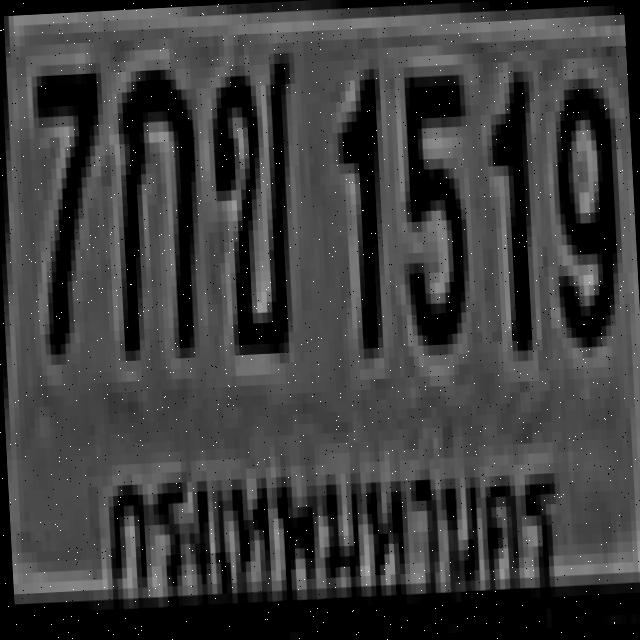1: (483, 67, 538, 347), (332, 64, 386, 344)
10GorGai: (105, 58, 200, 351)
19ChorChang: (204, 42, 304, 346)
5: (393, 65, 472, 346)
7: (31, 63, 110, 344)
9: (543, 67, 621, 339)
Bangkok: (96, 428, 566, 626)
